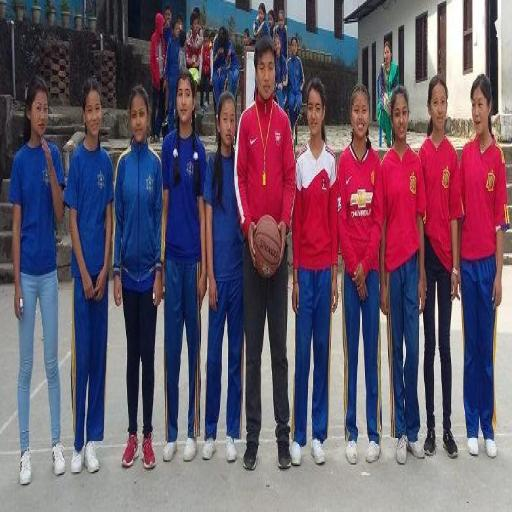person: (235, 37, 295, 470), (10, 76, 65, 485), (64, 79, 113, 473), (460, 74, 510, 457), (113, 86, 162, 469), (291, 79, 338, 466), (163, 72, 206, 461), (381, 86, 425, 464), (419, 76, 462, 457), (339, 85, 382, 464), (203, 92, 243, 461), (377, 40, 399, 147), (150, 14, 166, 142), (213, 27, 239, 103), (165, 18, 179, 130), (287, 37, 304, 127), (212, 27, 229, 103), (186, 12, 203, 84), (274, 36, 288, 108), (199, 32, 211, 110), (226, 35, 239, 96), (253, 2, 271, 41), (275, 11, 288, 59), (163, 3, 172, 47), (178, 30, 187, 72), (243, 28, 254, 47), (268, 9, 275, 38)
